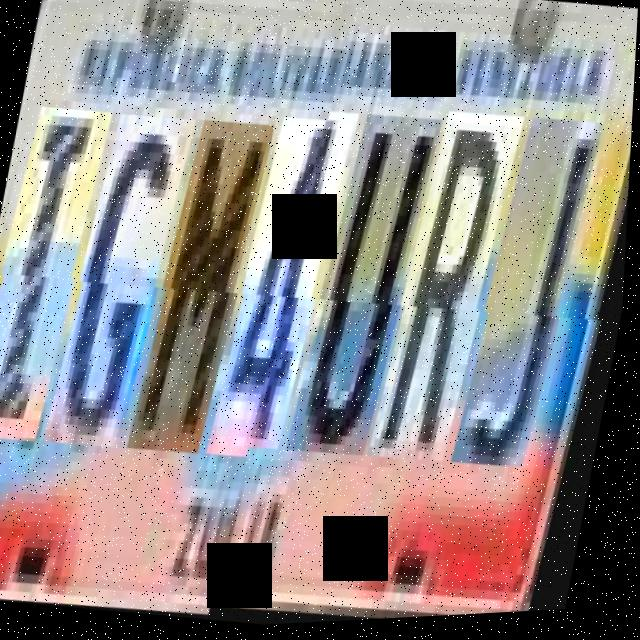4: (217, 116, 365, 469)
G: (53, 109, 204, 455)
I: (0, 103, 121, 447)
J: (459, 128, 609, 491)
M: (137, 118, 283, 462)
R: (375, 122, 530, 483)
U: (297, 122, 449, 477)
